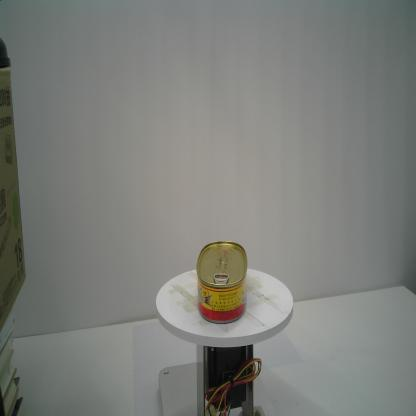Canned Food: (194, 239, 250, 326)
